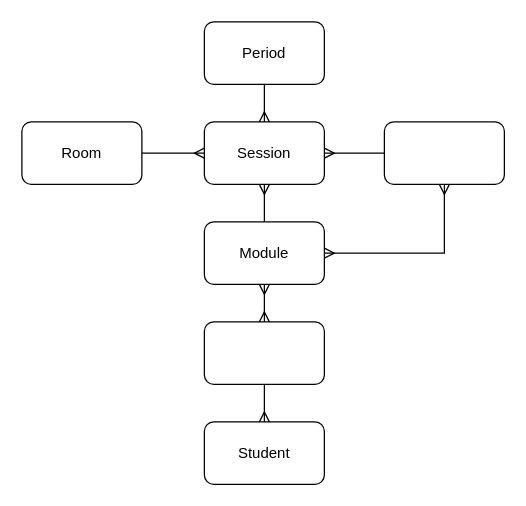
This 526x506 diagram has some shape labels left out. The centre of each missing label's shape, as x and y in pixels:
"Course" belongs at pixel 263 352.
"Lecturer" belongs at pixel 443 152.
